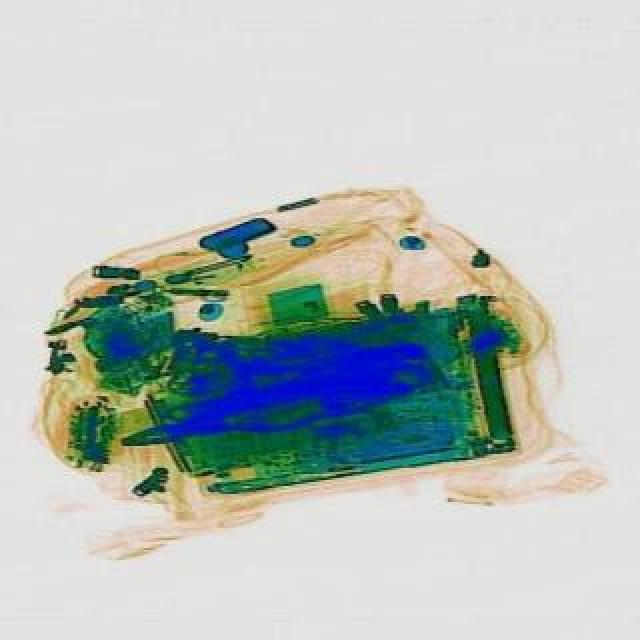wrench: (110, 360, 366, 468)
